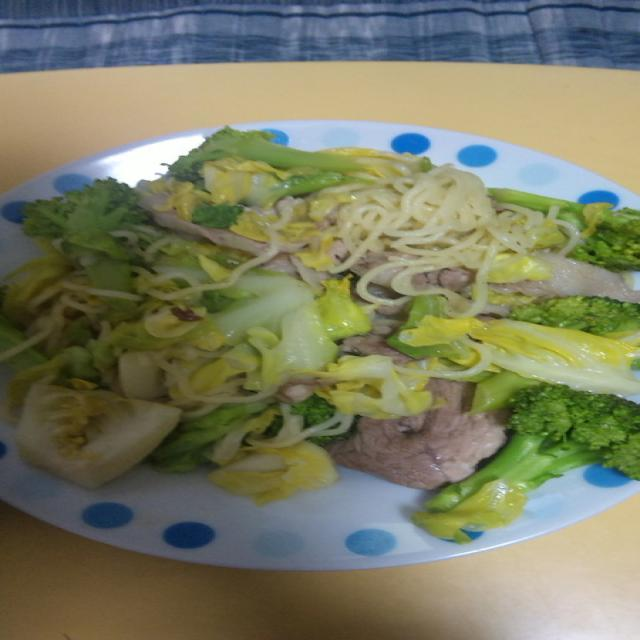Rice: (3, 136, 640, 493)
